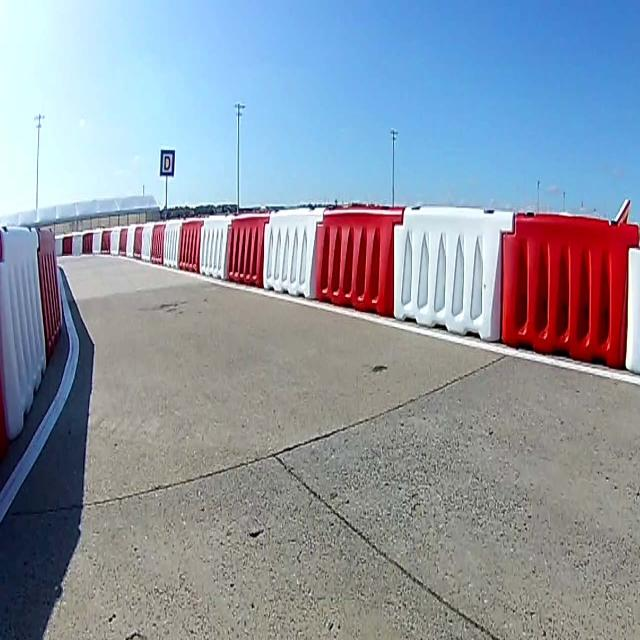durak: (160, 150, 174, 176)
